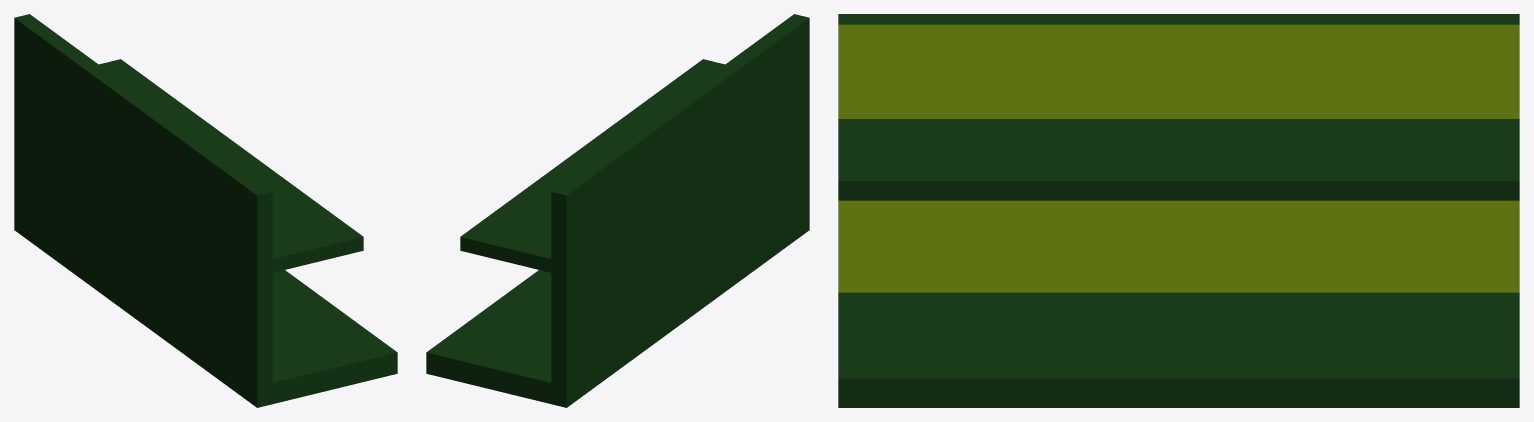
Rendered from store-shelf.obj.
The picture shows the model from 3 angles, left to right: view 1: azimuth 30°, elevation 25°; view 2: azimuth 150°, elevation 25°; view 3: azimuth 270°, elevation 25°; orthographic projection. The views are drawn at different scales.
Visible parts, largest first — view 1: Cube; view 2: Cube; view 3: Cube.
Boxes of the visible parts, x1=… form: Cube: x1=14, y1=14, x2=397, y2=407; Cube: x1=426, y1=14, x2=809, y2=407; Cube: x1=838, y1=14, x2=1519, y2=407.
Bounding box in the file's own units: 0.3337 × 0.4824 × 1.
